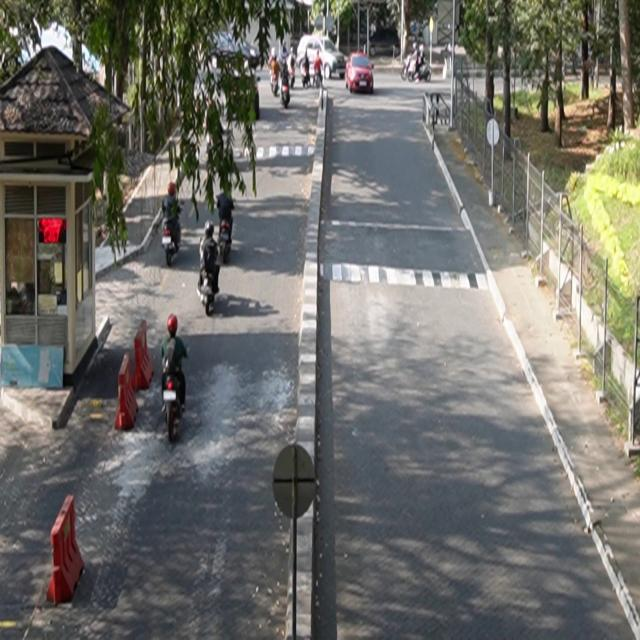car: (346, 53, 375, 95)
